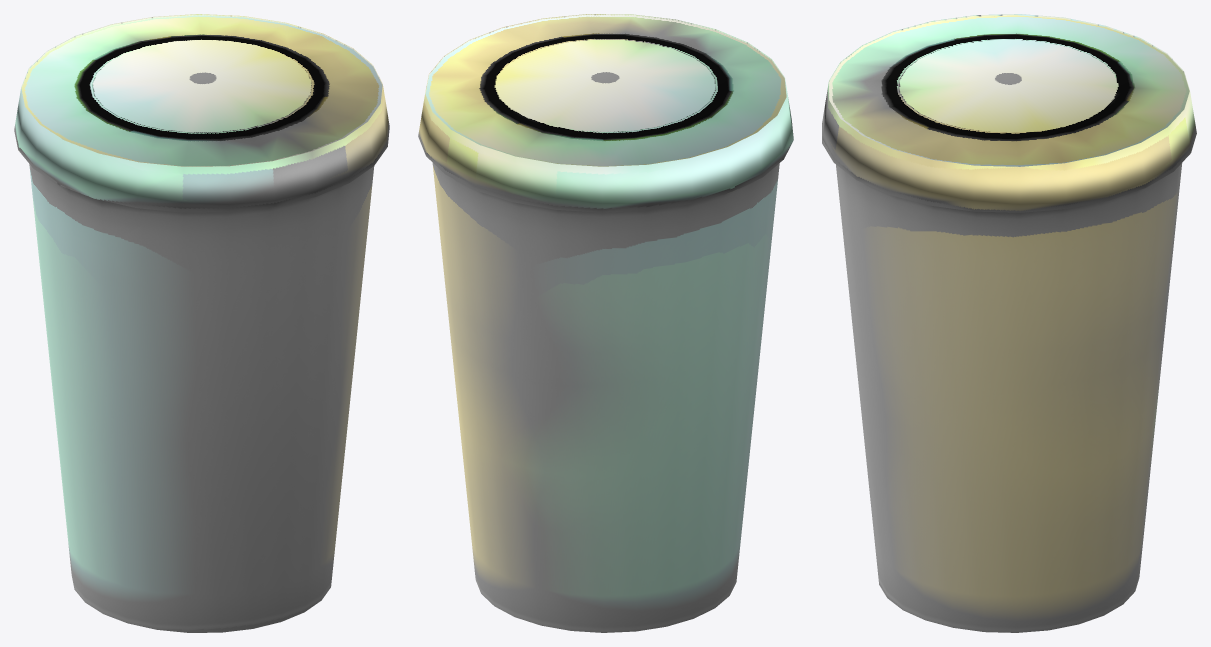
The picture shows the model from 3 angles, left to right: view 1: azimuth 30°, elevation 25°; view 2: azimuth 150°, elevation 25°; view 3: azimuth 270°, elevation 25°; orthographic projection.
Parts seen in each view (by area): view 1: Cylinder.001; view 2: Cylinder.001; view 3: Cylinder.001.
Boxes of the visible parts, bbox=[...] form: Cylinder.001: bbox=[14, 14, 389, 632]; Cylinder.001: bbox=[418, 14, 793, 632]; Cylinder.001: bbox=[822, 14, 1196, 632].
Size of the model in its own units: 186 by 274 by 186.
1 material, 1 textured.
